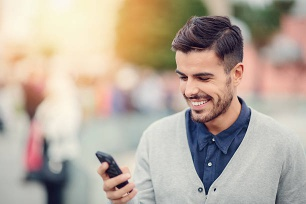male: (173, 12, 239, 126)
